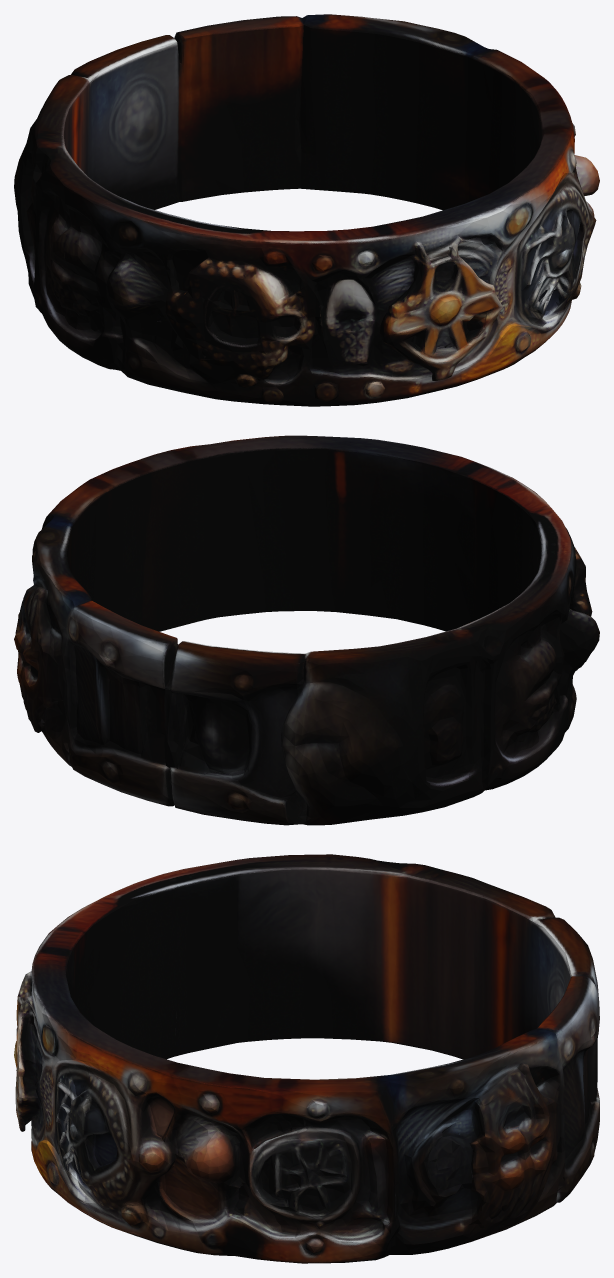
File: wooden-bracelet-horror.jpeg.glb
3 renders of one model, top to bottom at view 1: azimuth 30°, elevation 25°; view 2: azimuth 150°, elevation 25°; view 3: azimuth 270°, elevation 25°, orthographic. The views are drawn at different scales.
Parts seen in each view (by area): view 1: world; view 2: world; view 3: world.
Boxes of the visible parts, box(x1,y1,x2,y2) form: world: box(14, 14, 599, 406); world: box(14, 435, 599, 825); world: box(14, 854, 599, 1263).
Bounding box in the file's own units: 1 × 0.328 × 0.9979.
Materials: 1 (1 with a texture image).
